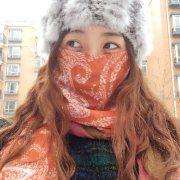OK: (59, 31, 127, 95)
